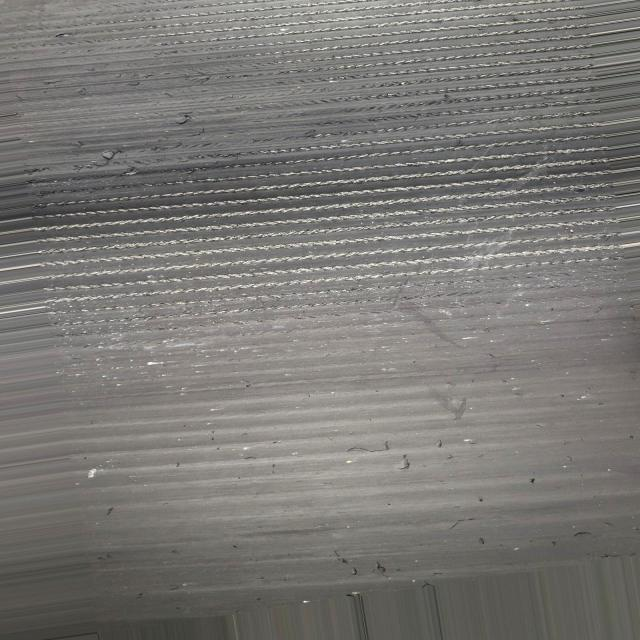Wear: (3, 3, 634, 315)
